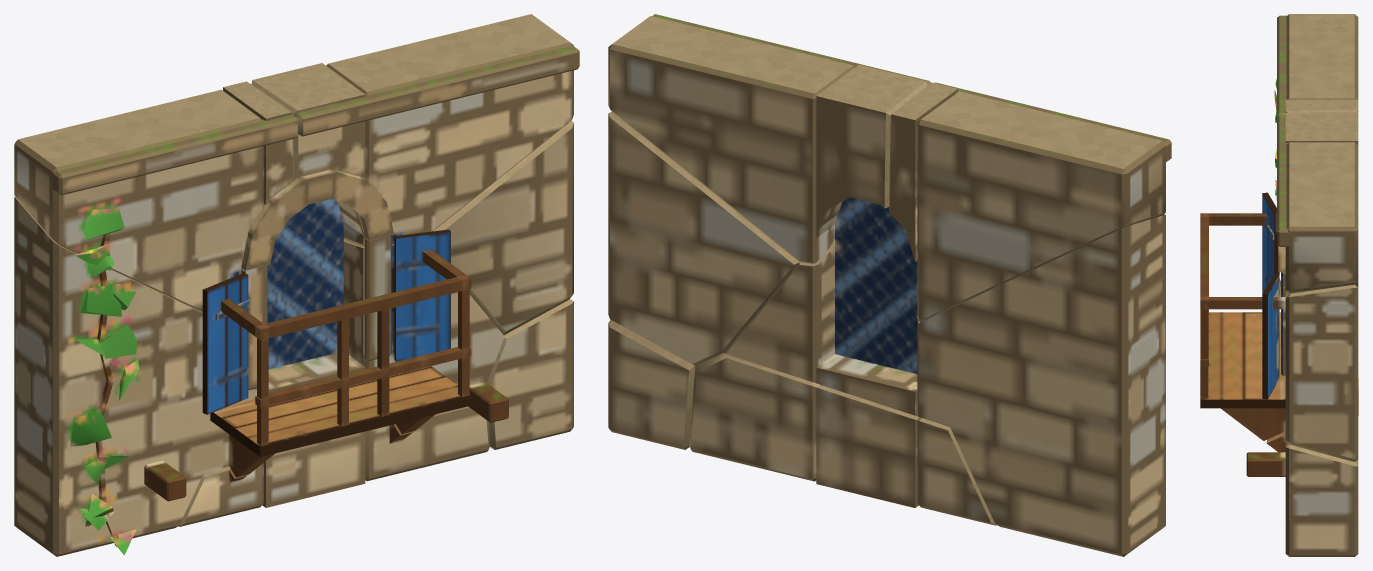
Rendered from Kit_Keep_WallBalcony_Fractured.fbx.
The picture shows the model from 3 angles, left to right: view 1: azimuth 30°, elevation 25°; view 2: azimuth 150°, elevation 25°; view 3: azimuth 270°, elevation 25°; orthographic projection. The views are drawn at different scales.
Parts seen in each view (by area): view 1: Kit_Keep_WallBalcony_frag_01, Kit_Keep_WallBalcony_frag_05, Kit_Keep_WallBalcony_frag_02, Kit_Keep_WallBalcony_frag_07, Kit_Keep_WallBalcony_frag_06, Kit_Keep_WallBalcony_frag_03, Kit_Keep_WallBalcony_frag_04; view 2: Kit_Keep_WallBalcony_frag_01, Kit_Keep_WallBalcony_frag_02, Kit_Keep_WallBalcony_frag_07, Kit_Keep_WallBalcony_frag_06, Kit_Keep_WallBalcony_frag_03, Kit_Keep_WallBalcony_frag_05, Kit_Keep_WallBalcony_frag_04; view 3: Kit_Keep_WallBalcony_frag_02, Kit_Keep_WallBalcony_frag_05, Kit_Keep_WallBalcony_frag_06, Kit_Keep_WallBalcony_frag_07, Kit_Keep_WallBalcony_frag_04, Kit_Keep_WallBalcony_frag_01, Kit_Keep_WallBalcony_frag_03.
Part boxes in pixels (x1,y1,x2,y2): Kit_Keep_WallBalcony_frag_01: [14, 196, 268, 556]; Kit_Keep_WallBalcony_frag_05: [203, 199, 508, 477]; Kit_Keep_WallBalcony_frag_02: [251, 14, 579, 246]; Kit_Keep_WallBalcony_frag_07: [14, 81, 308, 336]; Kit_Keep_WallBalcony_frag_06: [433, 120, 573, 334]; Kit_Keep_WallBalcony_frag_03: [178, 406, 490, 526]; Kit_Keep_WallBalcony_frag_04: [486, 299, 573, 449]; Kit_Keep_WallBalcony_frag_01: [919, 214, 1165, 556]; Kit_Keep_WallBalcony_frag_02: [608, 14, 930, 263]; Kit_Keep_WallBalcony_frag_07: [889, 82, 1171, 322]; Kit_Keep_WallBalcony_frag_06: [608, 112, 799, 365]; Kit_Keep_WallBalcony_frag_03: [689, 353, 996, 525]; Kit_Keep_WallBalcony_frag_05: [724, 197, 949, 426]; Kit_Keep_WallBalcony_frag_04: [608, 320, 695, 449]; Kit_Keep_WallBalcony_frag_02: [1277, 112, 1358, 297]; Kit_Keep_WallBalcony_frag_05: [1200, 213, 1285, 476]; Kit_Keep_WallBalcony_frag_06: [1285, 284, 1358, 461]; Kit_Keep_WallBalcony_frag_07: [1201, 14, 1358, 239]; Kit_Keep_WallBalcony_frag_04: [1285, 441, 1358, 556]; Kit_Keep_WallBalcony_frag_01: [1219, 148, 1280, 317]; Kit_Keep_WallBalcony_frag_03: [1266, 378, 1358, 452].
Size of what is drawn, in the model's own units: 4.2 by 3.05 by 1.3.
Materials: 2 (2 with a texture image).
